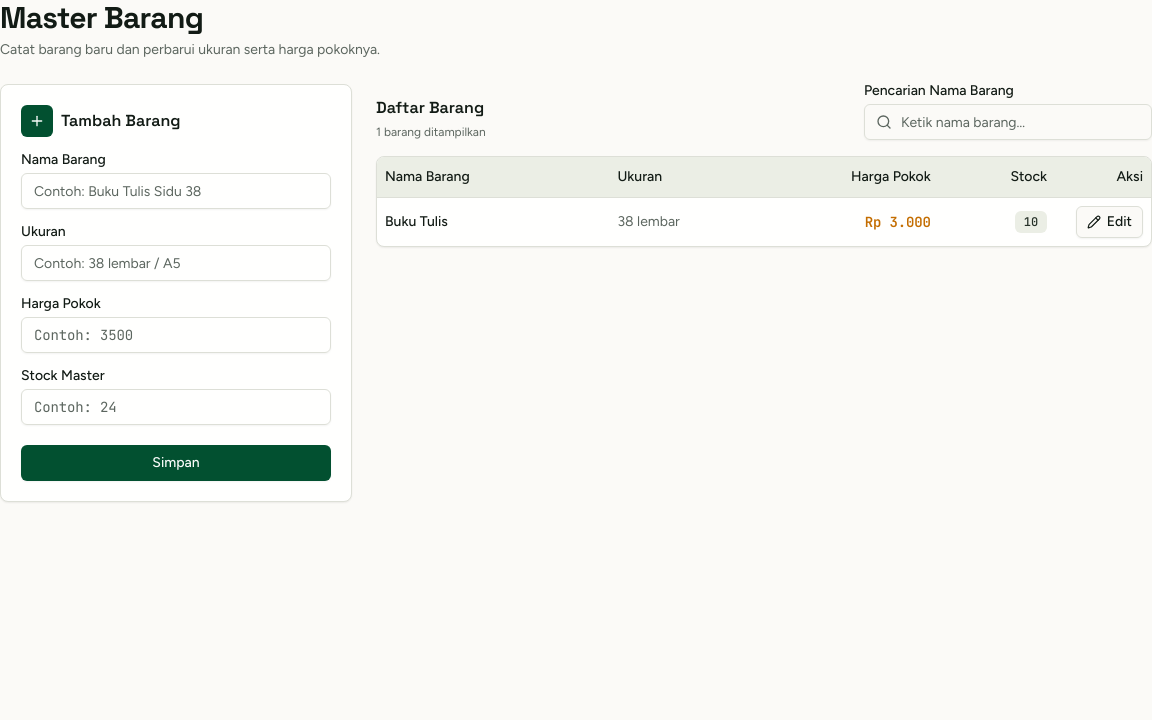
MasterBarangPage › edits ukuran and harga pokok through the edit dialog
Expected: the text "Buku Tulis" is shown, left=377, top=197, right=610, bottom=246
Click the button with test id "master.edit_button.1" at (1109, 222), box left=1076, top=206, right=1143, bottom=238
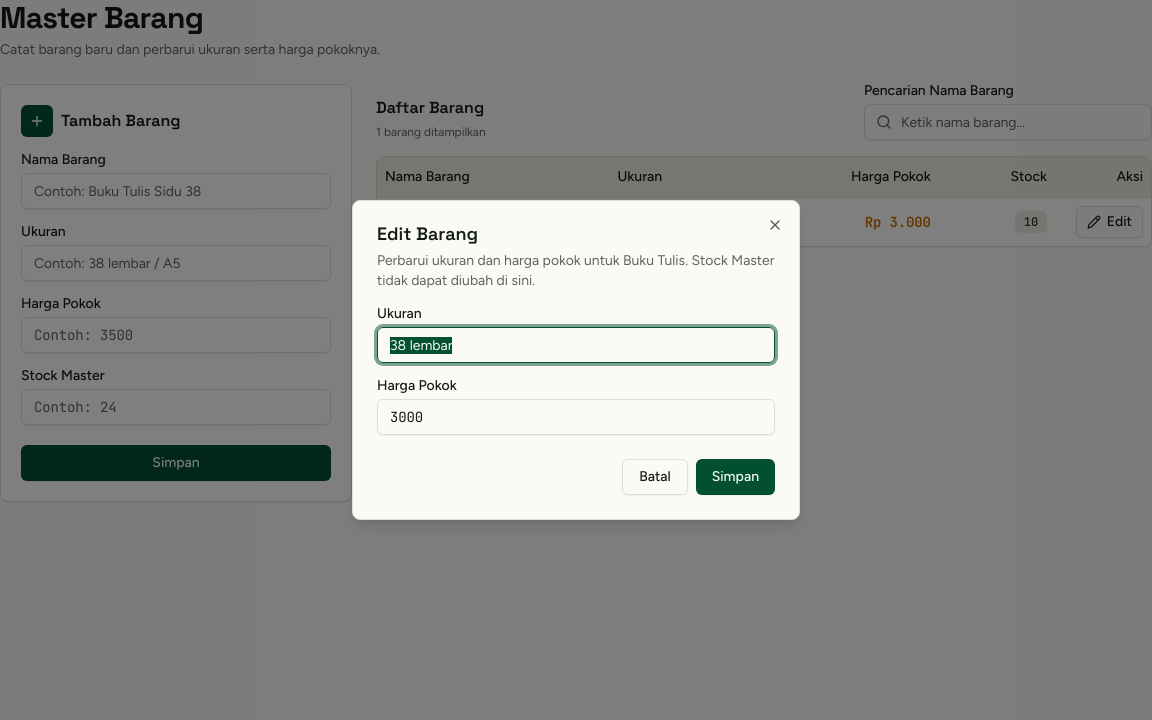
Replace the text in the field with test id "master.edit_ukuran_input" with "58 lembar" at (576, 345), box left=377, top=327, right=775, bottom=363
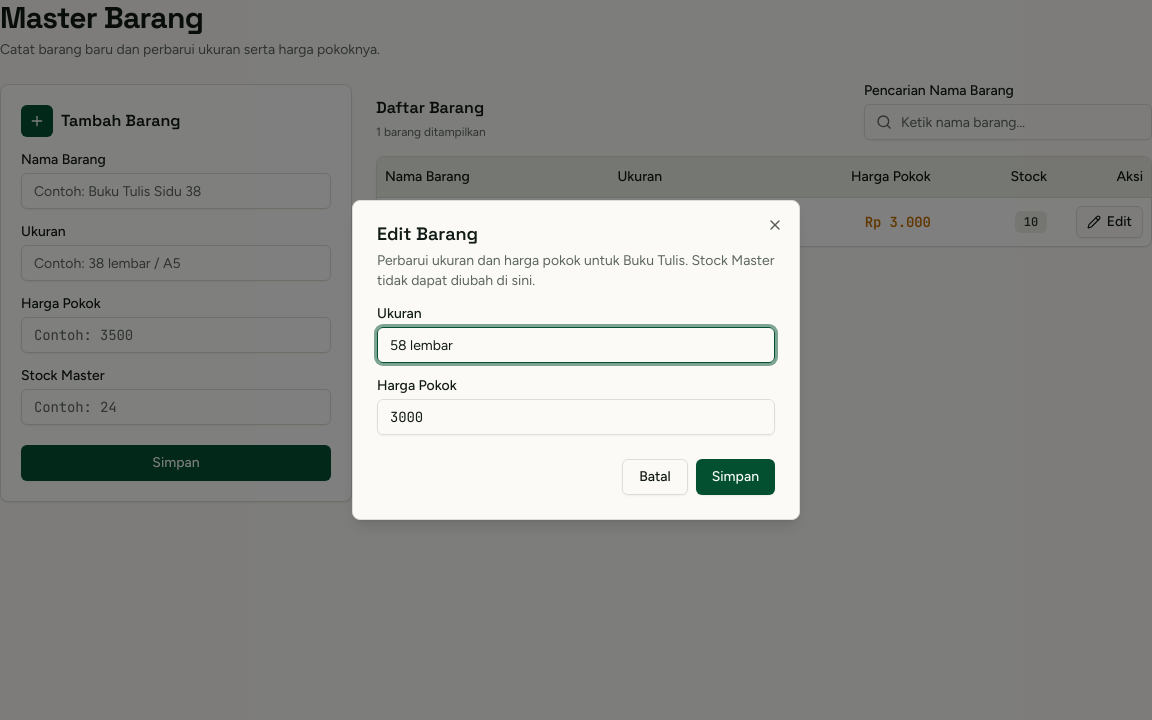
Replace the text in the field with test id "master.edit_harga_input" with "4200" at (576, 417), box left=377, top=399, right=775, bottom=435
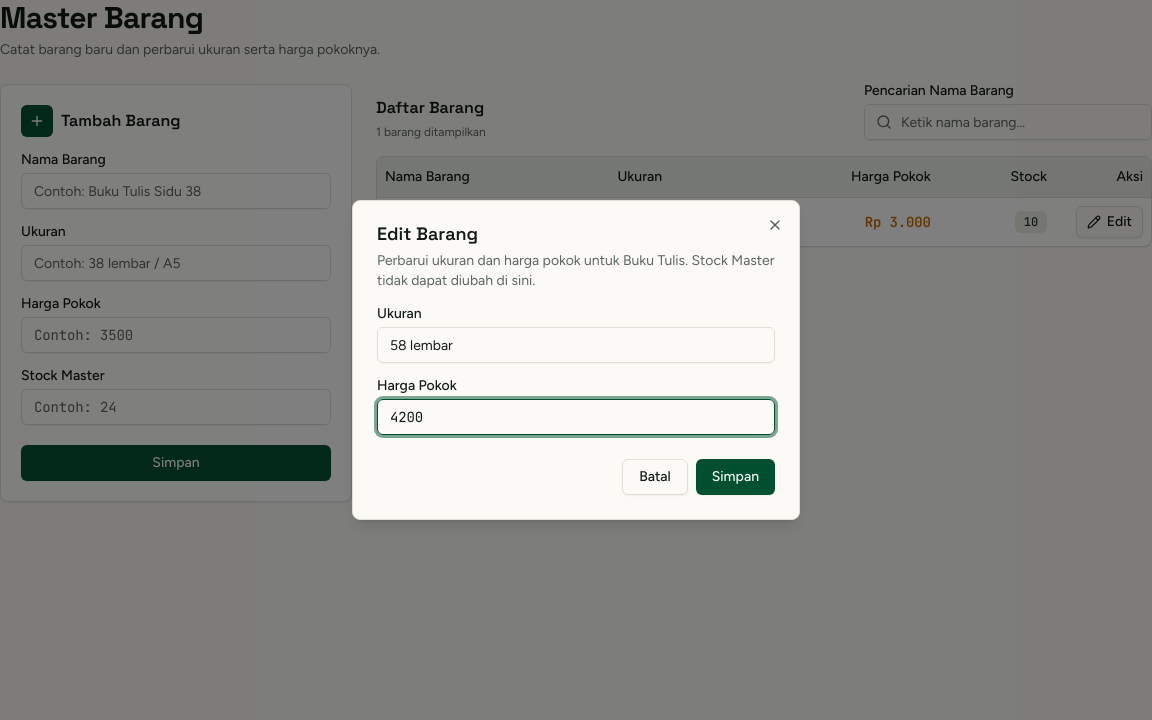
Click the button with test id "master.save_button" at (735, 477), box left=696, top=459, right=775, bottom=495
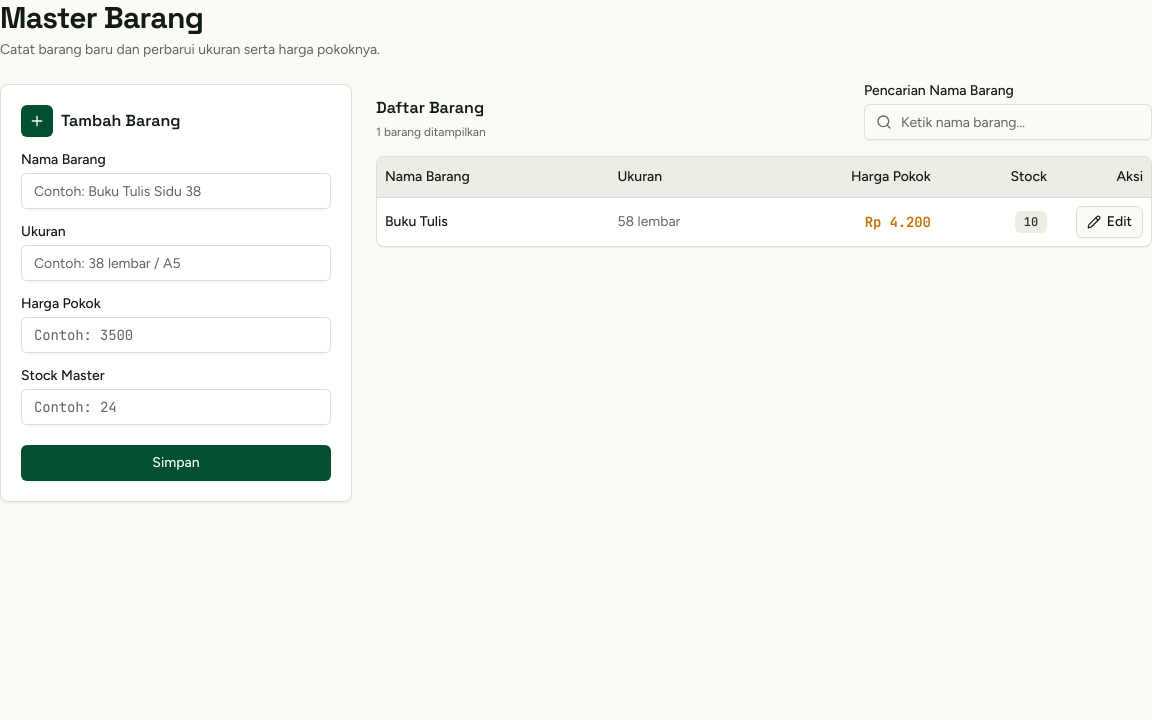
Expected: the text "58 lembar" is shown, left=610, top=197, right=764, bottom=246
Expected: the text "Rp 4.200" is shown, left=764, top=197, right=939, bottom=246
